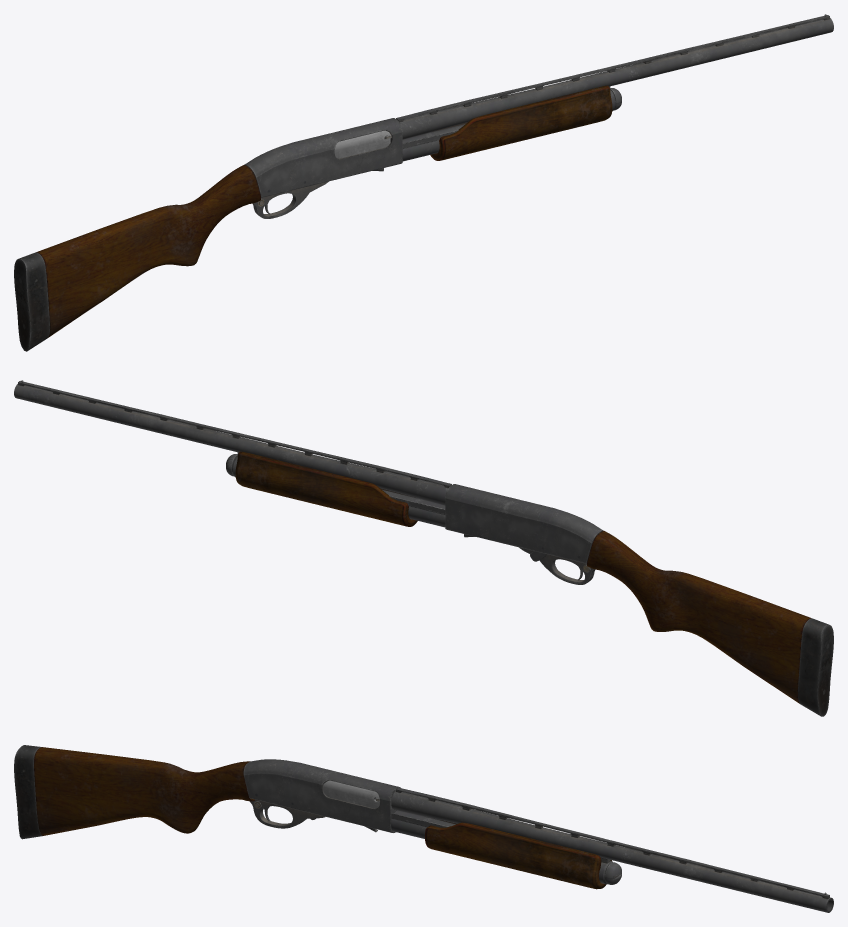
Rendered from remington_870.glb.
3 views of the same model, one above another, from view 1: azimuth 30°, elevation 25°; view 2: azimuth 150°, elevation 25°; view 3: azimuth 330°, elevation 25° (orthographic).
Parts seen in each view (by area): view 1: Stock_low, Barrel_low, Frame_low, Pump_low, StockEnd_low, Slide_low, ShellStorage_low; view 2: Stock_low, Barrel_low, Frame_low, Pump_low, StockEnd_low, ShellStorage_low; view 3: Stock_low, Barrel_low, Frame_low, Pump_low, StockEnd_low, Slide_low, ShellStorage_low.
Boxes of the visible parts, <box> form: Stock_low: <box>36,165,260,337</box>; Barrel_low: <box>390,15,833,141</box>; Frame_low: <box>244,118,402,218</box>; Pump_low: <box>430,85,612,160</box>; StockEnd_low: <box>14,252,49,351</box>; Slide_low: <box>334,130,390,158</box>; ShellStorage_low: <box>402,86,615,161</box>; Stock_low: <box>587,530,811,703</box>; Barrel_low: <box>14,381,451,505</box>; Frame_low: <box>445,484,603,584</box>; Pump_low: <box>235,451,417,526</box>; StockEnd_low: <box>798,618,833,716</box>; ShellStorage_low: <box>232,452,445,527</box>; Stock_low: <box>34,747,254,835</box>; Barrel_low: <box>391,787,833,912</box>; Frame_low: <box>243,759,400,832</box>; Pump_low: <box>425,820,612,889</box>; StockEnd_low: <box>14,745,42,839</box>; Slide_low: <box>323,780,379,808</box>; ShellStorage_low: <box>391,810,612,884</box>.
Bounding box in the file's own units: 1.08 × 0.18 × 0.0439.
1 material, 1 textured.
